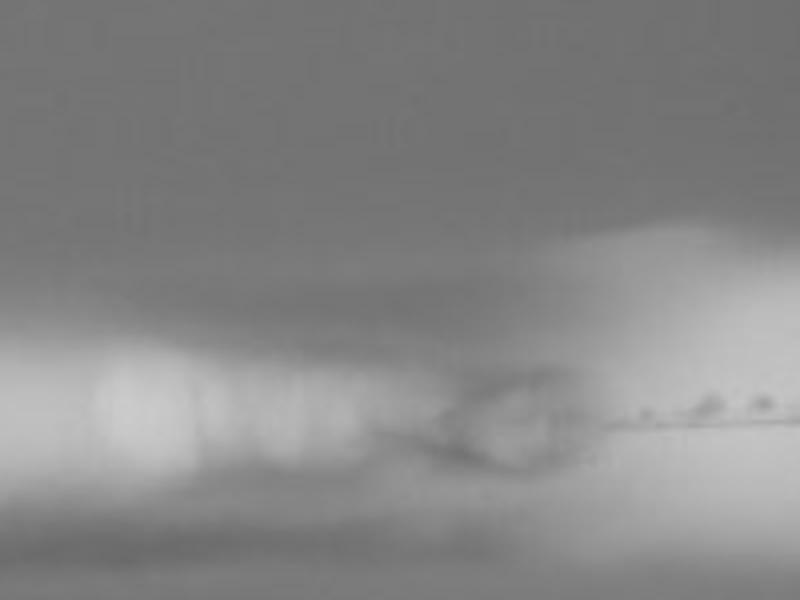defect: (692, 393, 726, 421), (749, 393, 775, 414), (642, 407, 651, 420)
